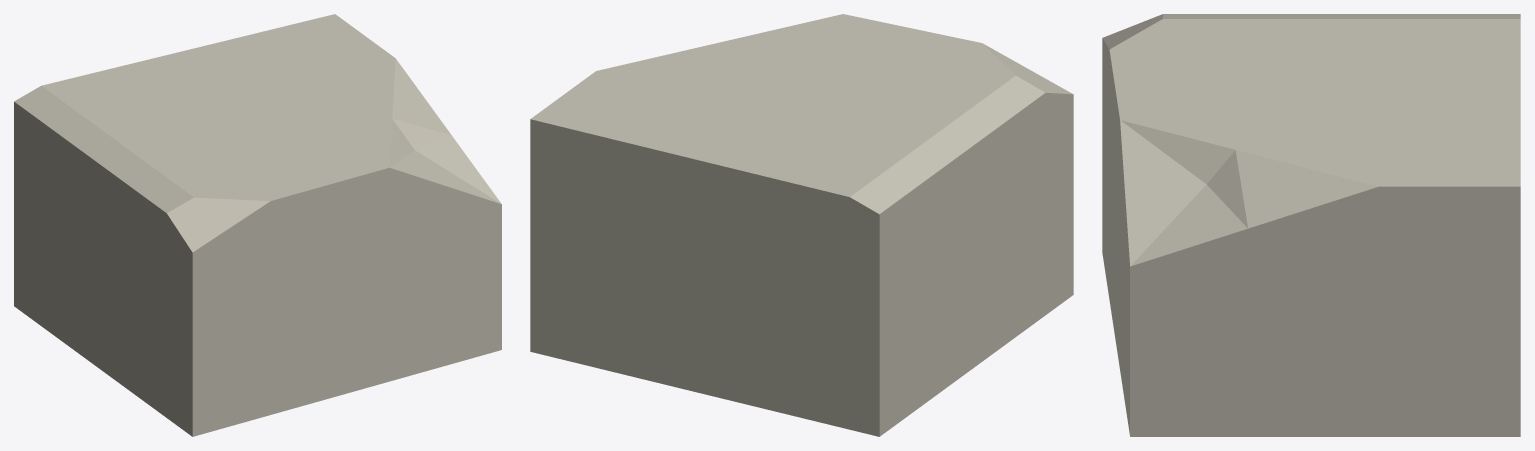
Rendered from Rock_Square_s_09.fbx.
The picture shows the model from 3 angles, left to right: view 1: azimuth 30°, elevation 25°; view 2: azimuth 150°, elevation 25°; view 3: azimuth 270°, elevation 25°; orthographic projection. The views are drawn at different scales.
Parts seen in each view (by area): view 1: Rock_Square_s_09; view 2: Rock_Square_s_09; view 3: Rock_Square_s_09.
Boxes of the visible parts, <box> form: Rock_Square_s_09: <box>14,14,501,436</box>; Rock_Square_s_09: <box>530,14,1073,436</box>; Rock_Square_s_09: <box>1102,14,1520,436</box>.
Size of the model in its own units: 40.23 by 25.6 by 38.75.
